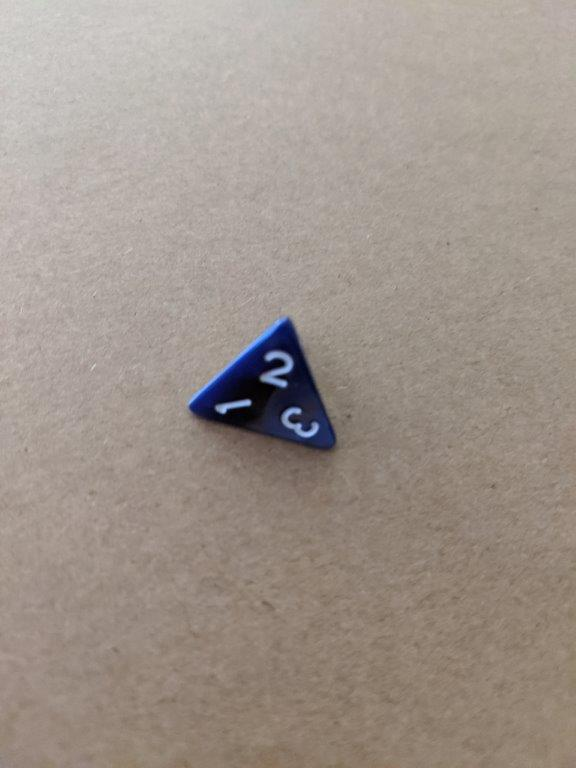d4-2: (188, 315, 340, 457)
